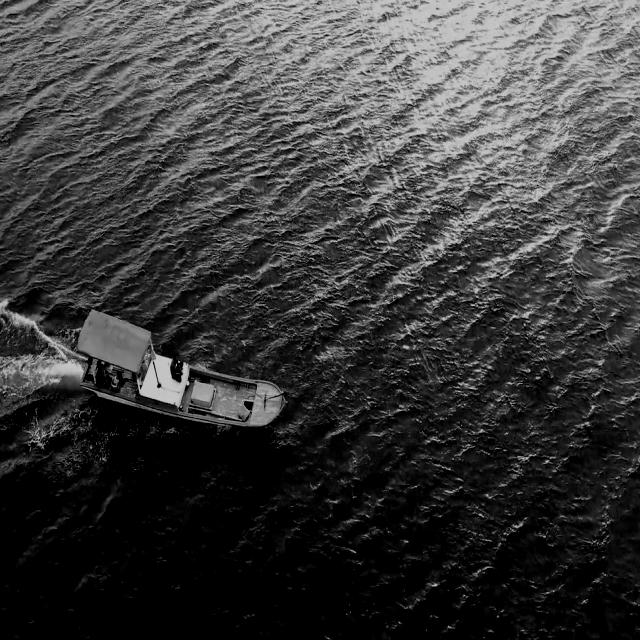ship: (73, 297, 290, 443)
